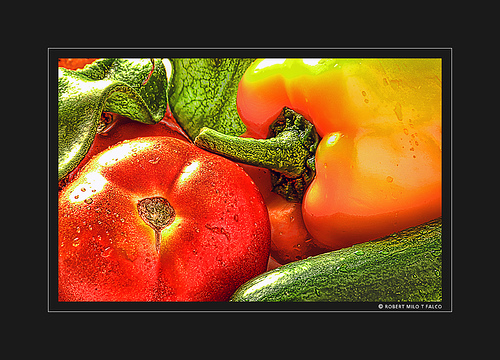cucumber: (232, 215, 445, 302)
